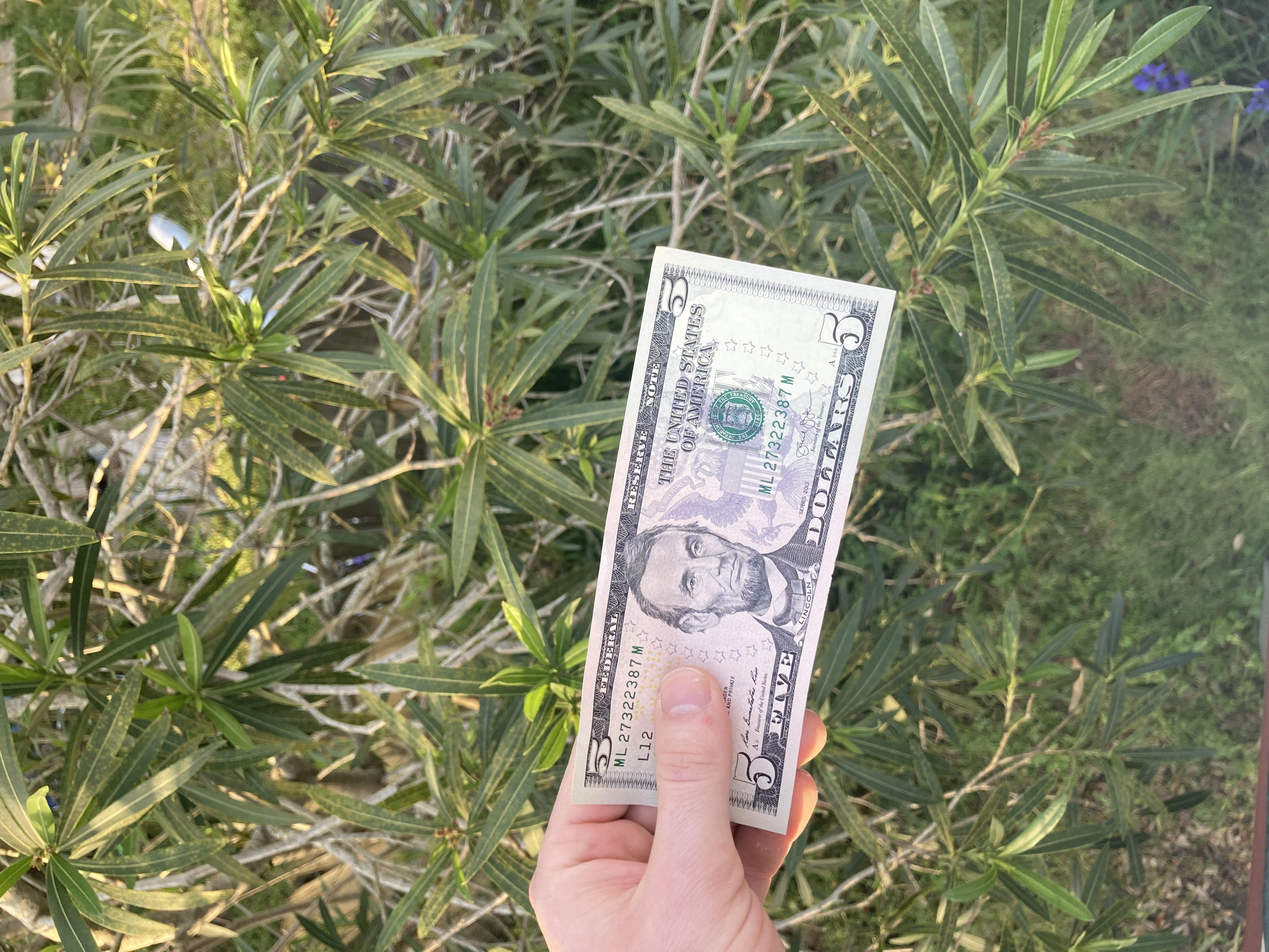five-front: (157, 428, 943, 672)
